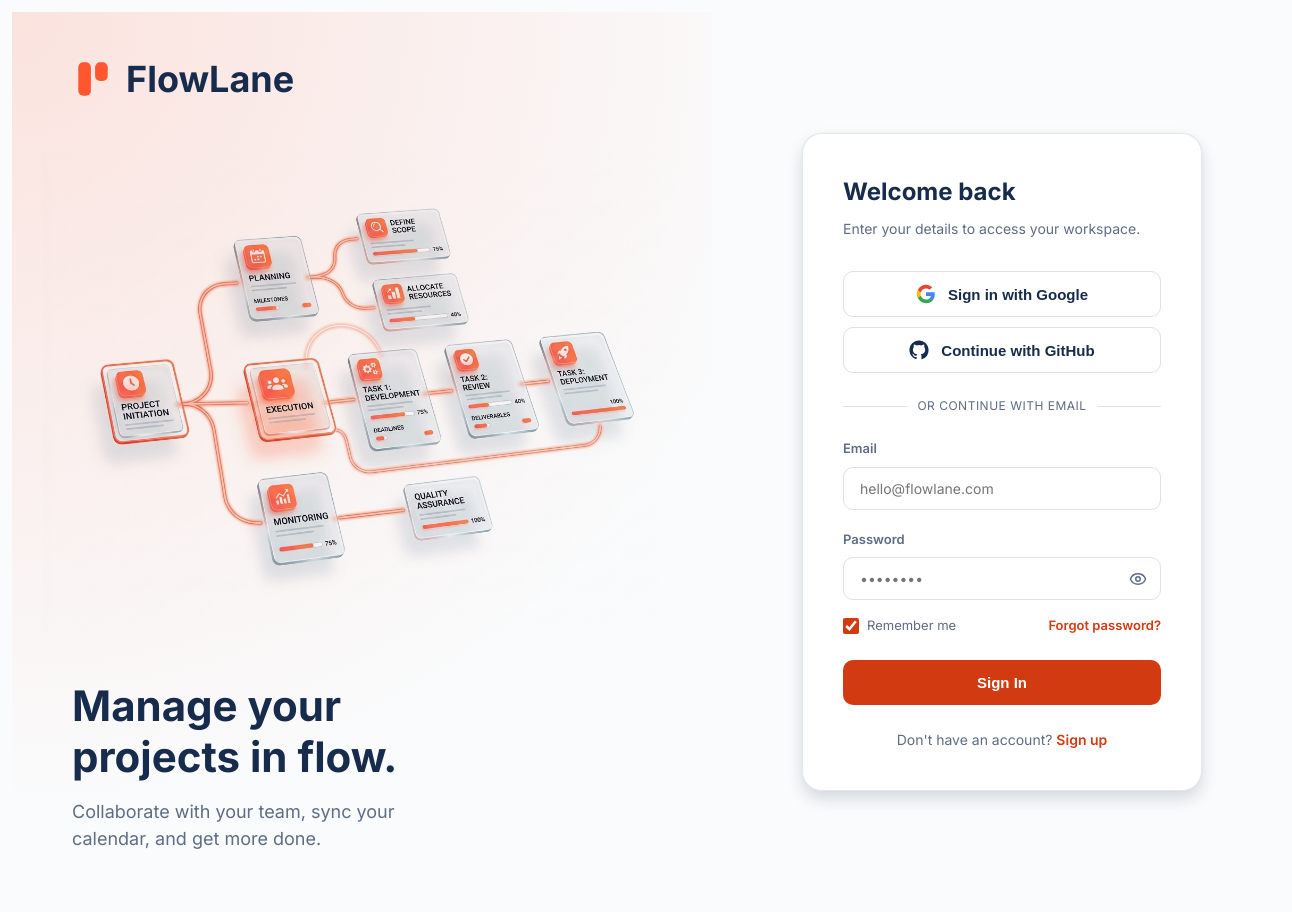
Test: Auth page › submits with remember=true by default and goes home on success
Type "a@x.com" into the field with id "auth-email" at (1002, 488), box x1=843 y1=467 x2=1161 y2=510
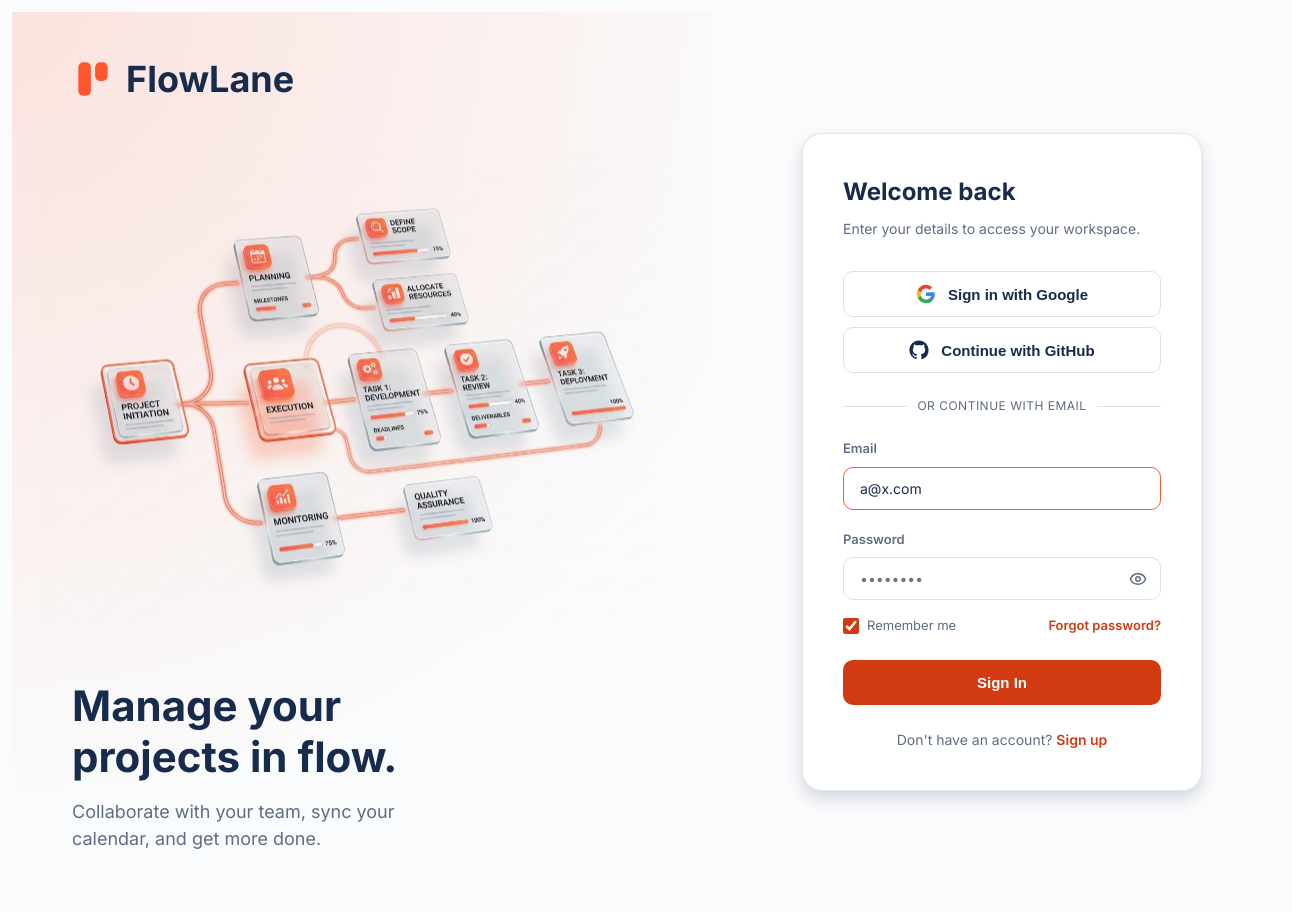
Type "pw12345" into the password field with id "auth-password" at (1002, 579), box x1=843 y1=557 x2=1161 y2=600
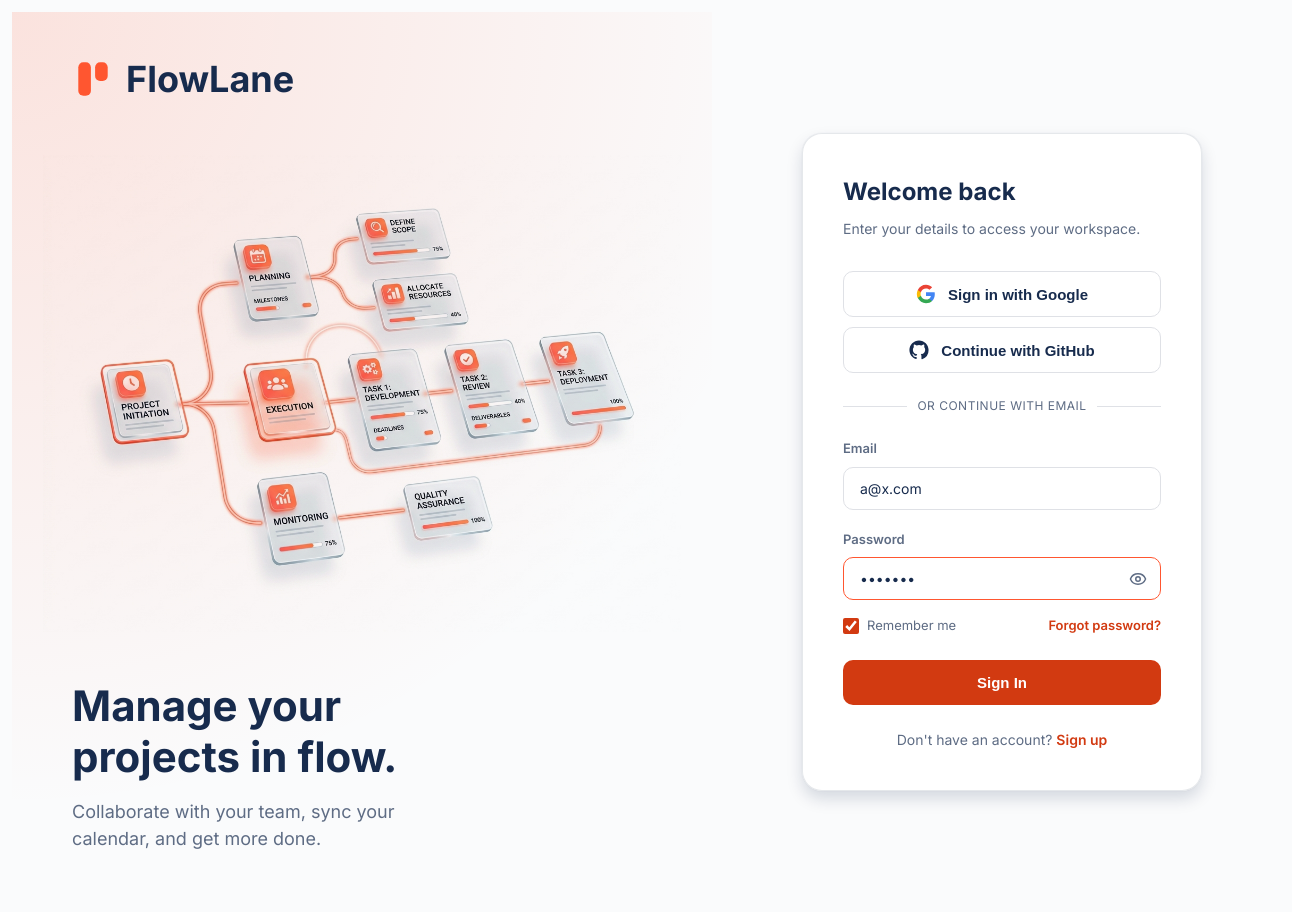
Click the button "Sign In" at (1002, 682), box x1=843 y1=660 x2=1161 y2=705
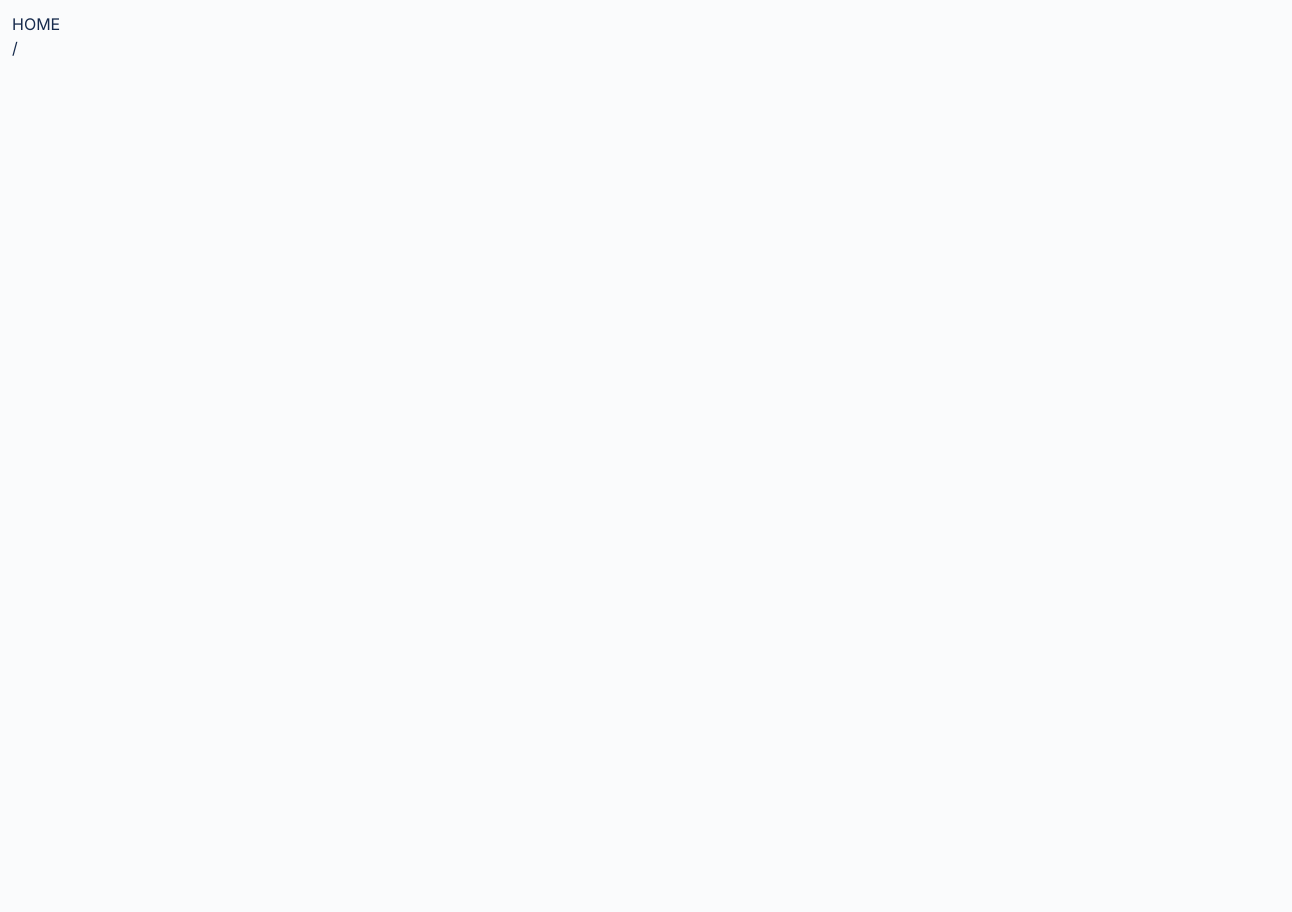
expect the text "HOME" is shown: met, box x1=12 y1=14 x2=60 y2=34
